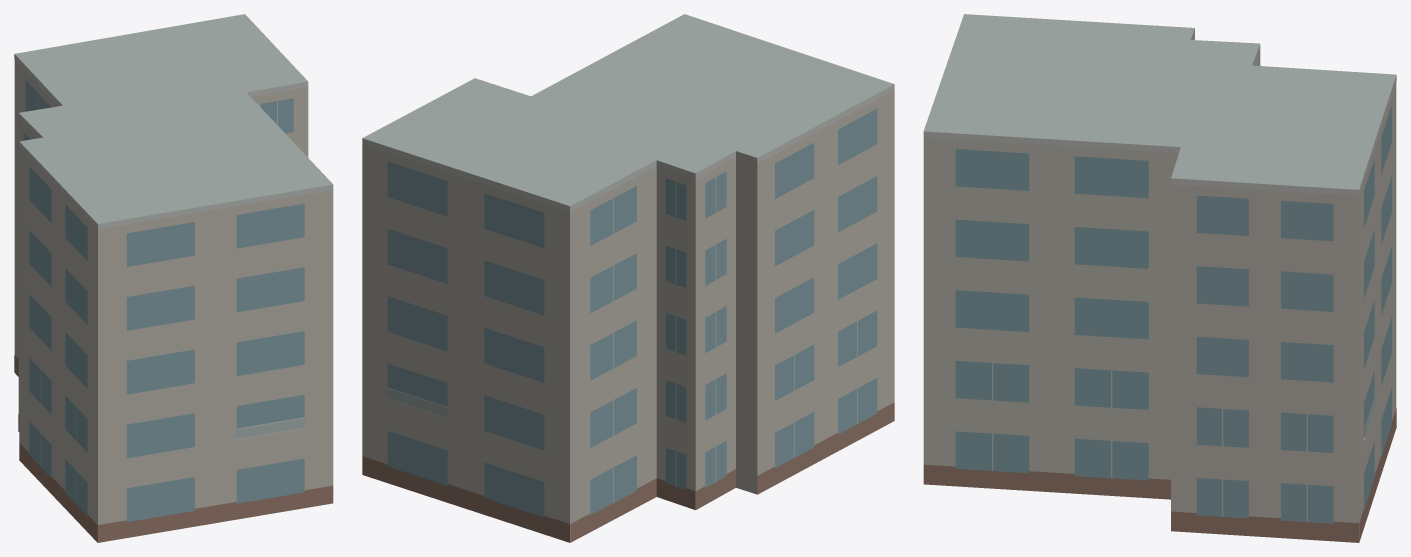
Rendered from survey-upis-32713123.glb.
3 views of the same model, side by side, from view 1: azimuth 30°, elevation 25°; view 2: azimuth 150°, elevation 25°; view 3: azimuth 270°, elevation 25° (orthographic). The views are drawn at different scales.
Visible parts, largest first — view 1: survey-upis-32713123.tmp; view 2: survey-upis-32713123.tmp; view 3: survey-upis-32713123.tmp.
Boxes of the visible parts, <box> form: survey-upis-32713123.tmp: <box>14,14,333,542</box>; survey-upis-32713123.tmp: <box>362,14,894,542</box>; survey-upis-32713123.tmp: <box>923,14,1396,542</box>.
Bounding box in the file's own units: 15.3 × 14.3 × 17.38.
